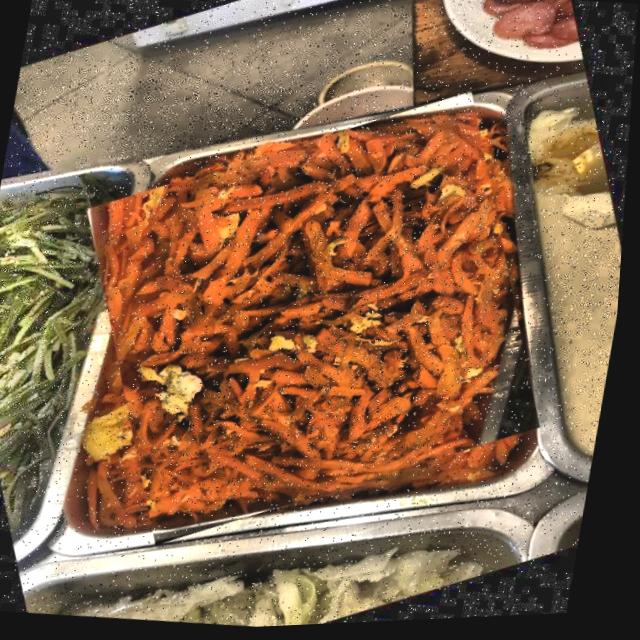Food: (36, 51, 601, 589), (450, 0, 587, 80)
